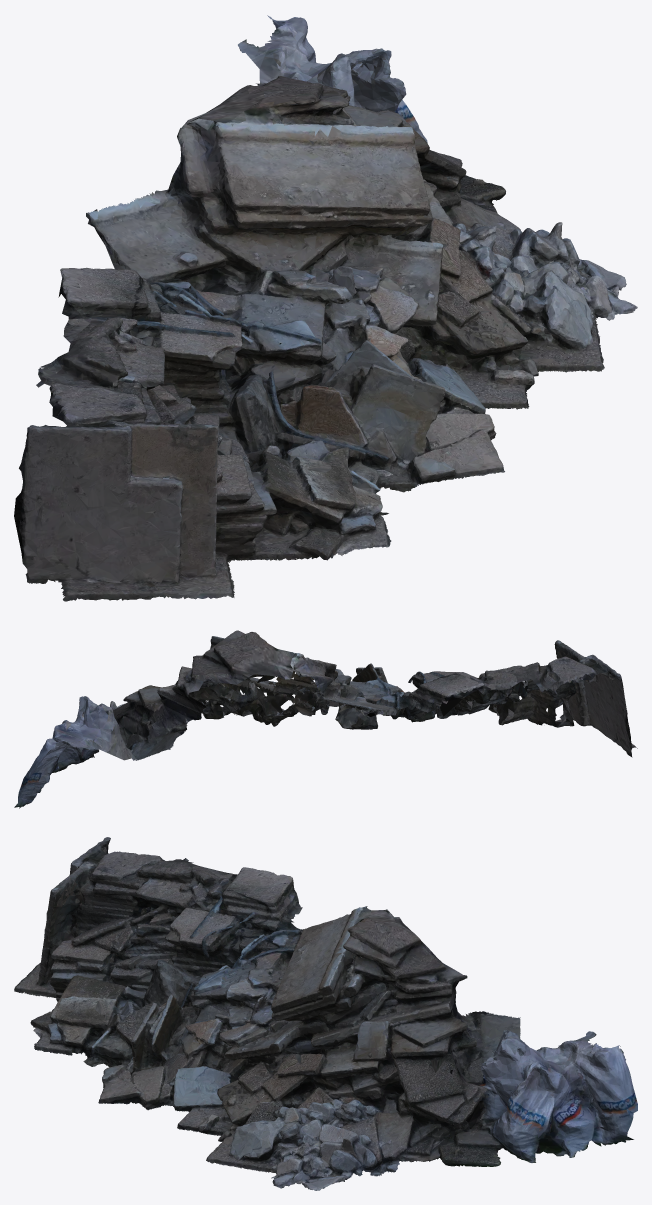
File: entulho.glb
3 renders of one model, top to bottom at view 1: azimuth 30°, elevation 25°; view 2: azimuth 150°, elevation 25°; view 3: azimuth 270°, elevation 25°, orthographic. The views are drawn at different scales.
Parts seen in each view (by area): view 1: LOD3; view 2: LOD3; view 3: LOD3.
Part boxes in pixels (x1,y1,x2,y2): LOD3: (14,15,637,601); LOD3: (14,630,637,808); LOD3: (14,837,637,1190).
Bounding box in the file's own units: 3.1 × 0.9836 × 3.16.
Materials: 5 (5 with a texture image).
